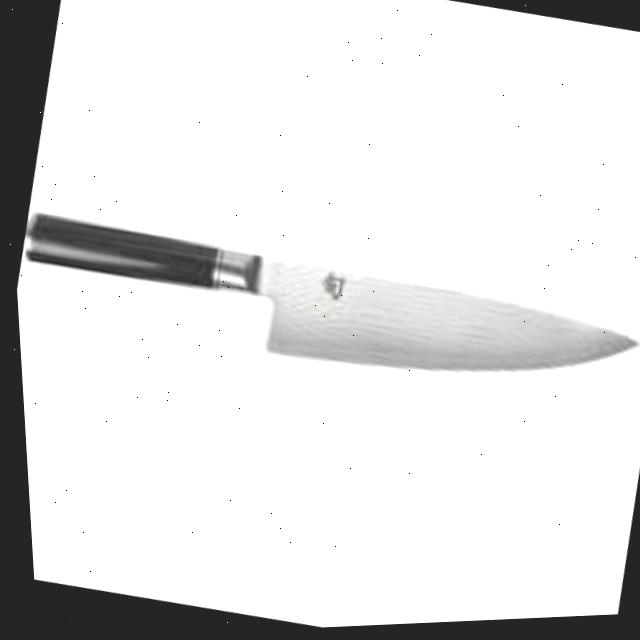Knife: (10, 187, 640, 439)
